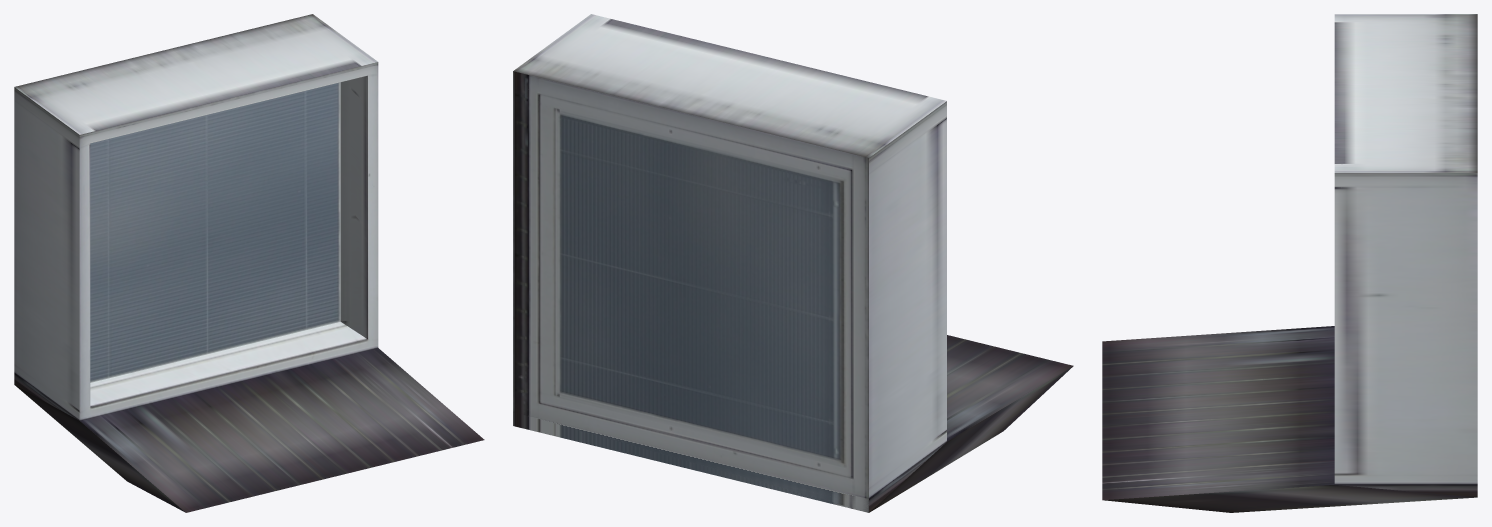
The model's file is window_normal.obj.
The picture shows the model from 3 angles, left to right: view 1: azimuth 30°, elevation 25°; view 2: azimuth 150°, elevation 25°; view 3: azimuth 270°, elevation 25°; orthographic projection. The views are drawn at different scales.
Visible parts, largest first — view 1: Box010; view 2: Box010; view 3: Box010.
Part boxes in pixels (<box>): Box010: <box>14,14,484,512</box>; Box010: <box>513,14,1073,512</box>; Box010: <box>1102,14,1477,512</box>.
Size of the model in its own units: 12.82 by 12.8 by 12.78.
